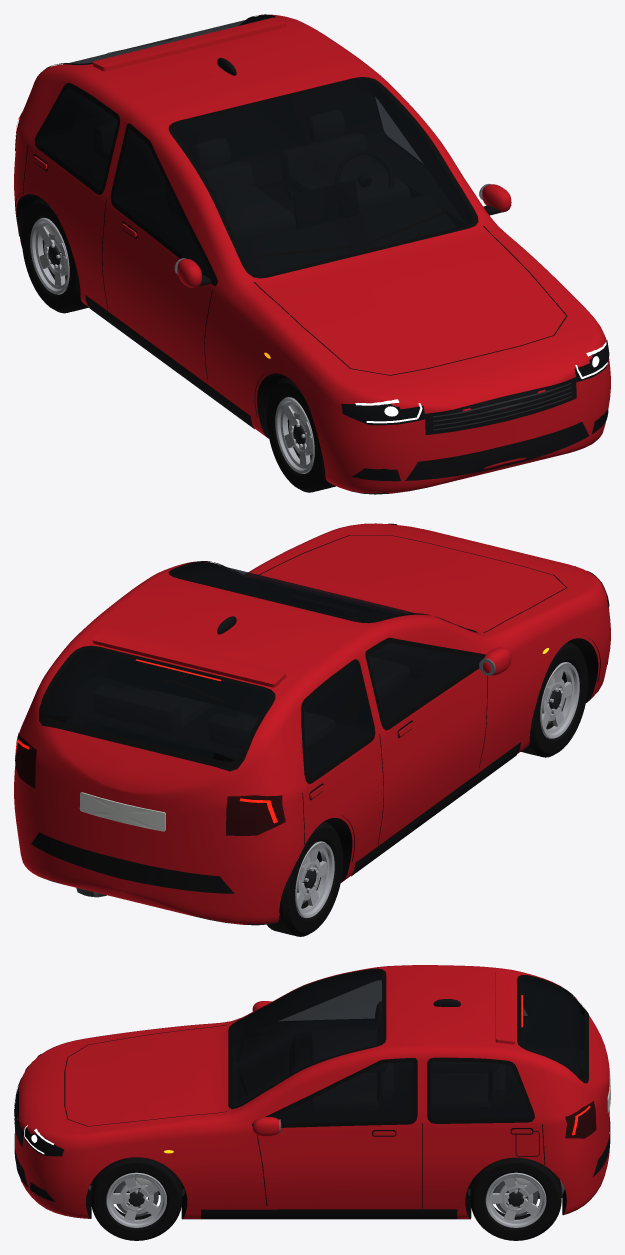
File: clio.glb
3 renders of one model, top to bottom at view 1: azimuth 30°, elevation 25°; view 2: azimuth 150°, elevation 25°; view 3: azimuth 270°, elevation 25°, orthographic. The views are drawn at different scales.
Parts seen in each view (by area): view 1: carrosserie, vitres, interieur, joints, grille_avant, roue_AVD, roue_ARD, poignees, feux_avant, bas_de_caisse, retros; view 2: carrosserie, vitres, interieur, joints, roue_ARD, roue_AVD, poignees, grille_avant, feux_arriere, bas_de_caisse, plaque, retros; view 3: carrosserie, vitres, interieur, joints, roue_AVG, roue_ARG, bas_de_caisse, poignees, feux_arriere, grille_avant, feux_avant, retros.
Boxes of the visible parts, left/top/right/bottom form: carrosserie: left=14, top=14, right=610, bottom=494; vitres: left=37, top=16, right=472, bottom=278; interieur: left=93, top=110, right=456, bottom=274; joints: left=23, top=14, right=566, bottom=380; grille_avant: left=351, top=377, right=608, bottom=481; roue_AVD: left=266, top=377, right=335, bottom=492; roue_ARD: left=21, top=198, right=88, bottom=313; poignees: left=32, top=17, right=286, bottom=237; feux_avant: left=264, top=340, right=609, bottom=479; bas_de_caisse: left=15, top=192, right=268, bottom=429; retros: left=174, top=183, right=511, bottom=287; carrosserie: left=14, top=523, right=610, bottom=925; vitres: left=44, top=563, right=482, bottom=778; interieur: left=93, top=596, right=461, bottom=749; joints: left=39, top=535, right=566, bottom=844; roue_ARD: left=267, top=821, right=343, bottom=936; roue_AVD: left=521, top=642, right=588, bottom=757; poignees: left=92, top=628, right=413, bottom=798; grille_avant: left=31, top=661, right=608, bottom=893; feux_arriere: left=15, top=659, right=285, bottom=835; bas_de_caisse: left=341, top=636, right=600, bottom=876; plaque: left=79, top=792, right=165, bottom=831; retros: left=479, top=647, right=511, bottom=675; carrosserie: left=15, top=965, right=609, bottom=1219; vitres: left=232, top=970, right=584, bottom=1123; interieur: left=238, top=1001, right=505, bottom=1116; joints: left=64, top=968, right=588, bottom=1208; roue_AVG: left=91, top=1157, right=182, bottom=1240; roue_ARG: left=470, top=1157, right=561, bottom=1240; bas_de_caisse: left=83, top=1202, right=569, bottom=1219; poignees: left=373, top=970, right=532, bottom=1135; feux_arriere: left=521, top=995, right=596, bottom=1138; grille_avant: left=14, top=1078, right=610, bottom=1201; feux_avant: left=23, top=1052, right=173, bottom=1193; retros: left=252, top=1001, right=281, bottom=1136.
Bounding box in the file's own units: 1.98 × 1.45 × 4.08.
